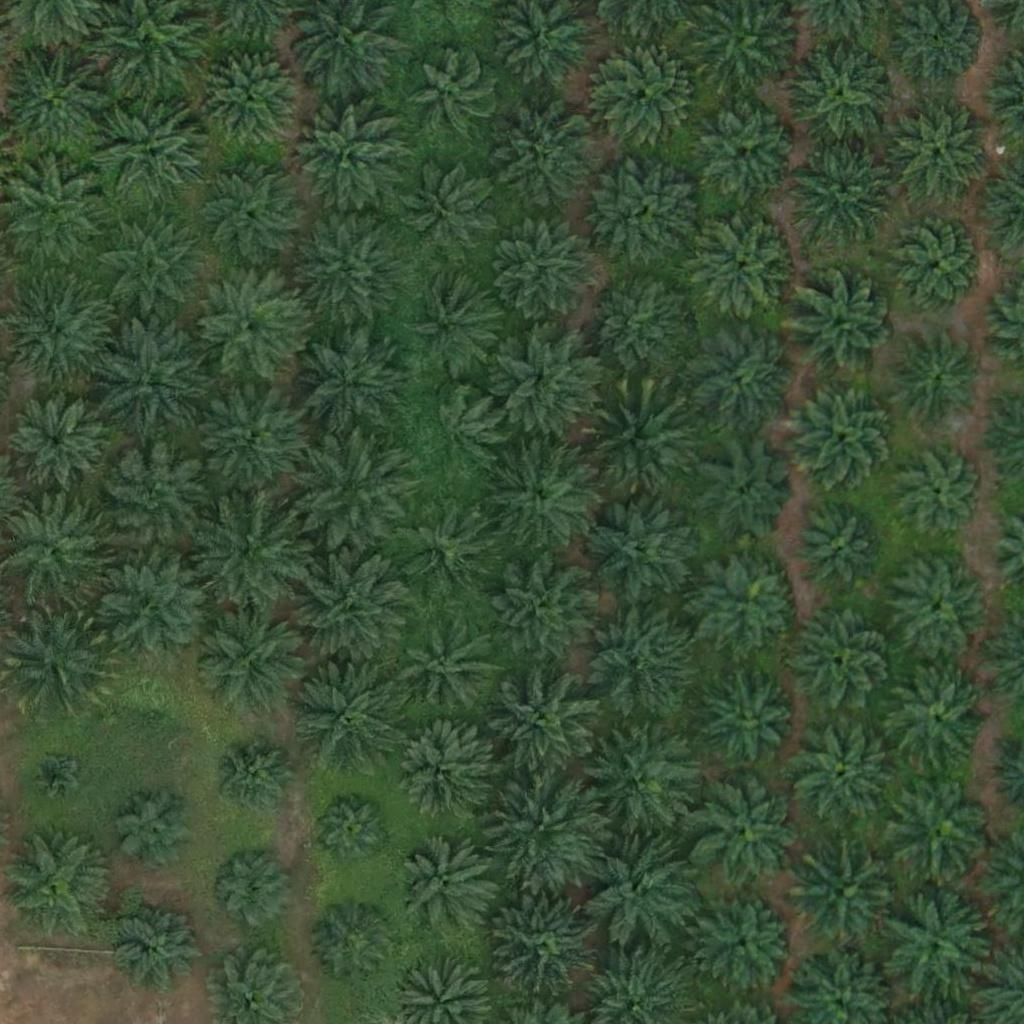Kelapa_Sawit: (783, 38, 896, 152), (791, 137, 904, 251), (291, 652, 404, 766), (194, 383, 307, 497), (191, 493, 304, 607), (92, 212, 205, 326), (94, 322, 207, 436), (2, 277, 115, 391), (291, 104, 404, 217), (489, 212, 602, 325), (785, 269, 898, 382), (787, 379, 900, 492), (586, 492, 699, 605), (582, 602, 695, 715), (491, 326, 604, 439), (482, 439, 595, 552), (488, 556, 601, 669), (196, 603, 309, 716), (98, 443, 211, 556), (490, 774, 603, 887), (491, 891, 604, 1004), (587, 722, 700, 835), (584, 836, 697, 949), (879, 889, 992, 1002), (488, 667, 600, 781), (295, 433, 407, 547), (297, 550, 409, 664), (1, 828, 113, 942), (96, 98, 208, 211), (195, 155, 307, 268), (294, 212, 406, 325), (593, 156, 705, 269), (584, 272, 696, 385), (583, 387, 695, 500), (293, 327, 405, 440), (193, 270, 305, 383), (103, 550, 215, 663), (691, 776, 803, 889), (786, 715, 898, 828), (793, 842, 905, 955), (200, 46, 300, 147), (498, 107, 598, 208), (596, 43, 696, 144), (698, 100, 798, 201), (887, 328, 987, 429), (888, 556, 988, 657), (888, 673, 988, 774), (792, 610, 892, 711), (691, 215, 791, 316), (688, 327, 788, 428), (697, 443, 797, 544), (698, 553, 798, 654), (695, 667, 795, 768), (403, 273, 503, 374), (7, 391, 107, 492), (391, 724, 491, 825), (397, 836, 497, 937), (697, 893, 797, 994), (890, 105, 990, 205), (887, 215, 987, 315), (395, 500, 495, 600), (399, 619, 499, 719), (889, 777, 989, 877), (796, 505, 884, 593), (412, 390, 500, 478), (118, 901, 206, 989), (406, 50, 493, 138), (407, 166, 494, 254), (896, 448, 983, 536), (112, 786, 199, 874), (211, 736, 298, 824), (208, 845, 295, 933), (310, 900, 397, 988), (313, 792, 388, 867), (30, 750, 80, 801), (127, 687, 177, 737)
